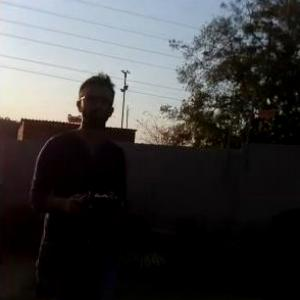follow: (24, 66, 138, 299)
